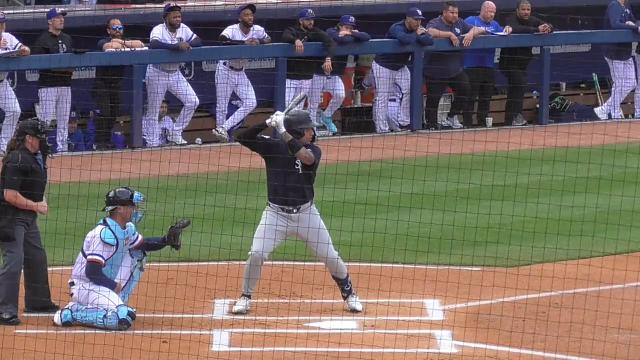bat: (284, 92, 306, 114)
